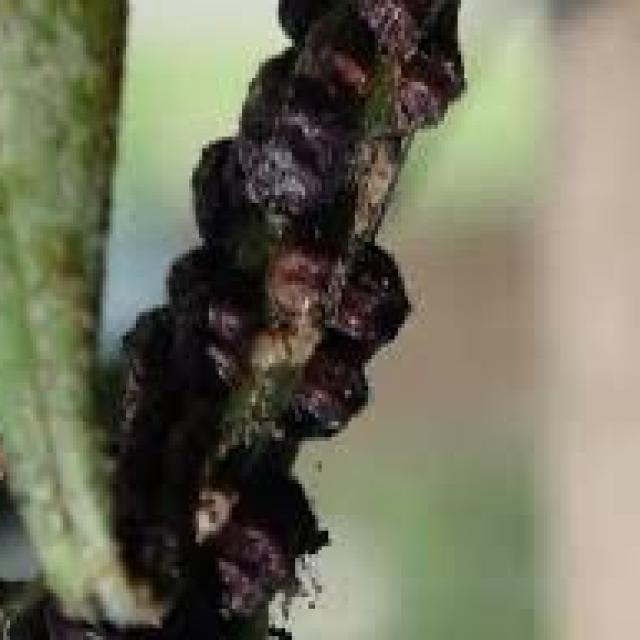Black Scale: (123, 0, 461, 636)
